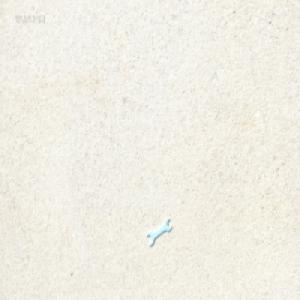Wrench: (146, 219, 170, 247)
